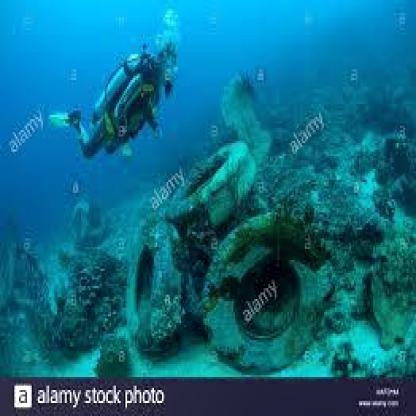tire: (200, 223, 329, 373), (151, 126, 246, 228), (124, 221, 187, 336)
